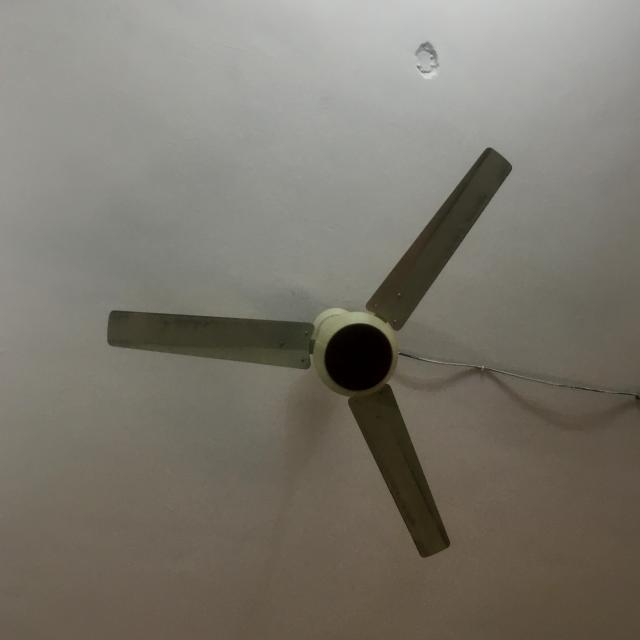off: (92, 138, 523, 571)
